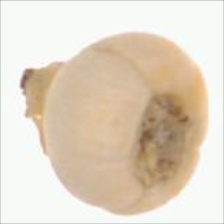L3: (17, 60, 63, 121)
L4: (19, 33, 210, 216)
